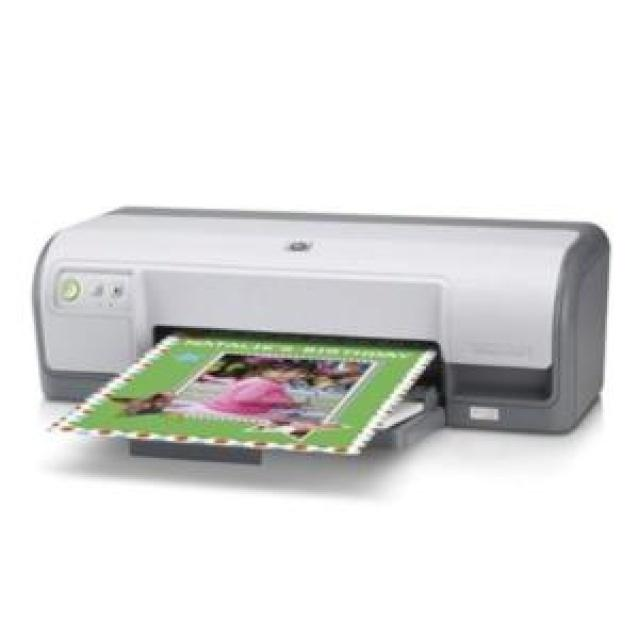Printer: (31, 205, 610, 466)
